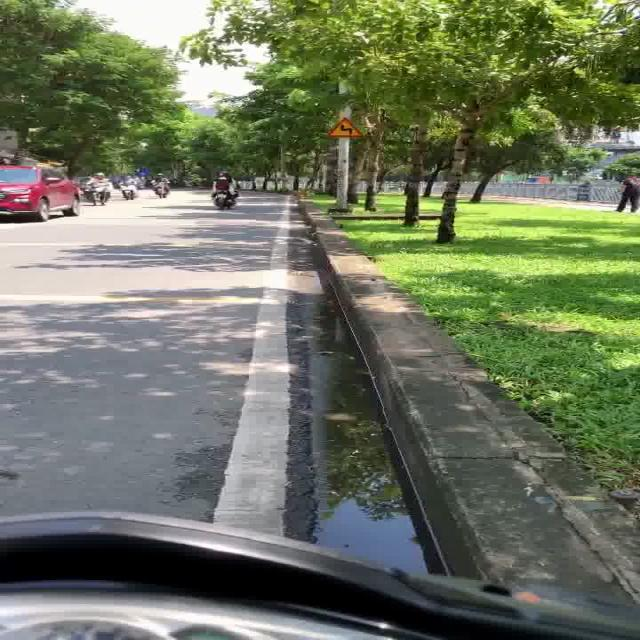Bien bao nhieu cho ngoat nguy hiem lien tiep: (323, 115, 368, 140)
